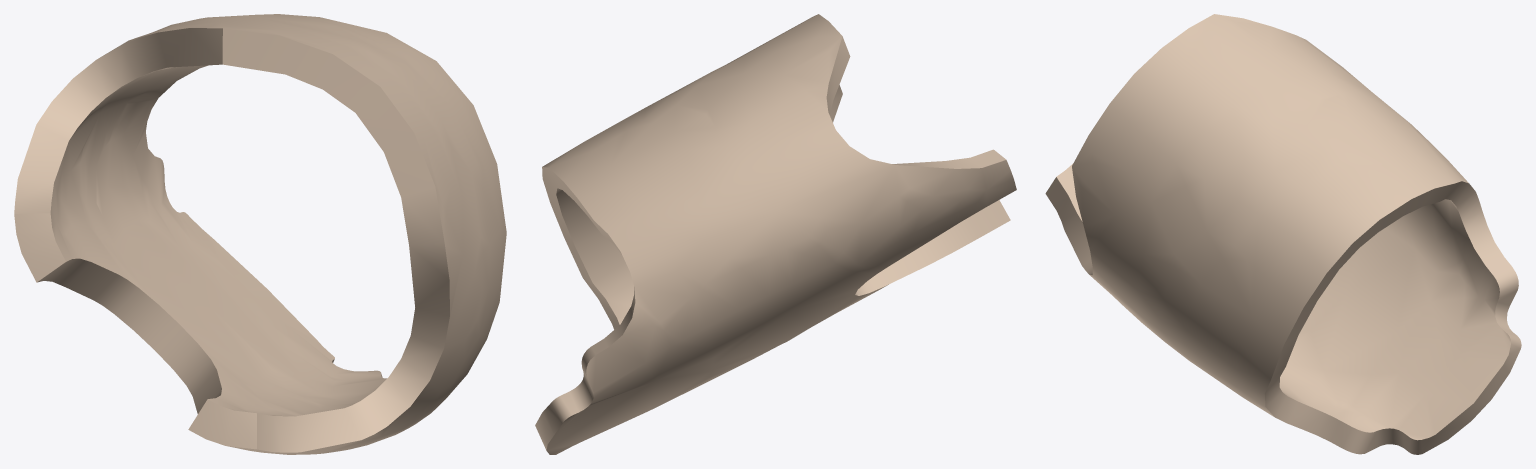
File: r_hand_TP_0.obj
The picture shows the model from 3 angles, left to right: view 1: azimuth 30°, elevation 25°; view 2: azimuth 150°, elevation 25°; view 3: azimuth 270°, elevation 25°; orthographic projection. The views are drawn at different scales.
Size of the model in its own units: 35.49 by 32.07 by 38.47.
